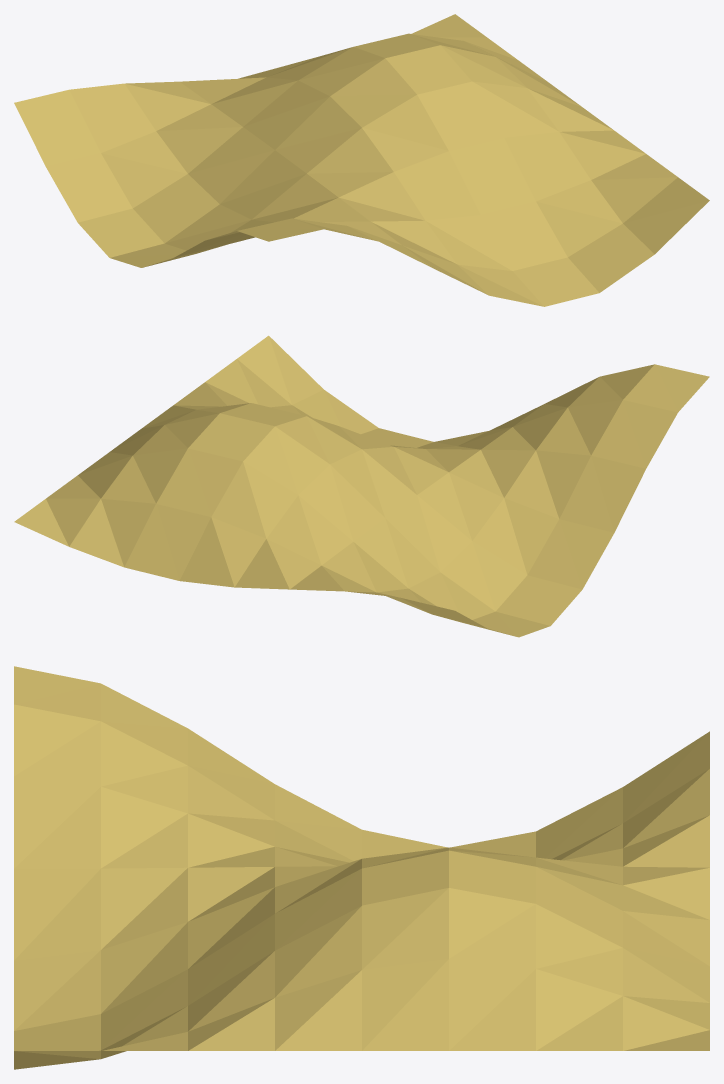
The picture shows the model from 3 angles, top to bottom: view 1: azimuth 30°, elevation 25°; view 2: azimuth 150°, elevation 25°; view 3: azimuth 270°, elevation 25°; orthographic projection. The views are drawn at different scales.
Size of the model in its own units: 20 by 5.75 by 20.
